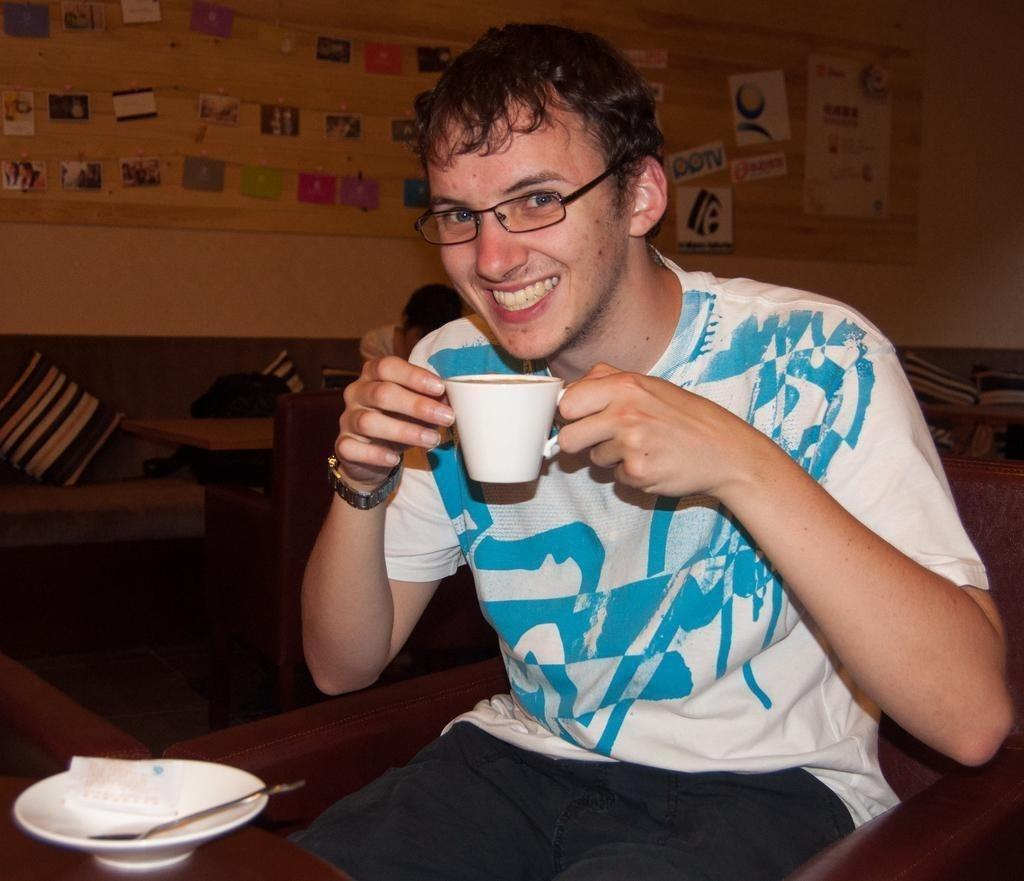cup-handle: (445, 370, 579, 485)
